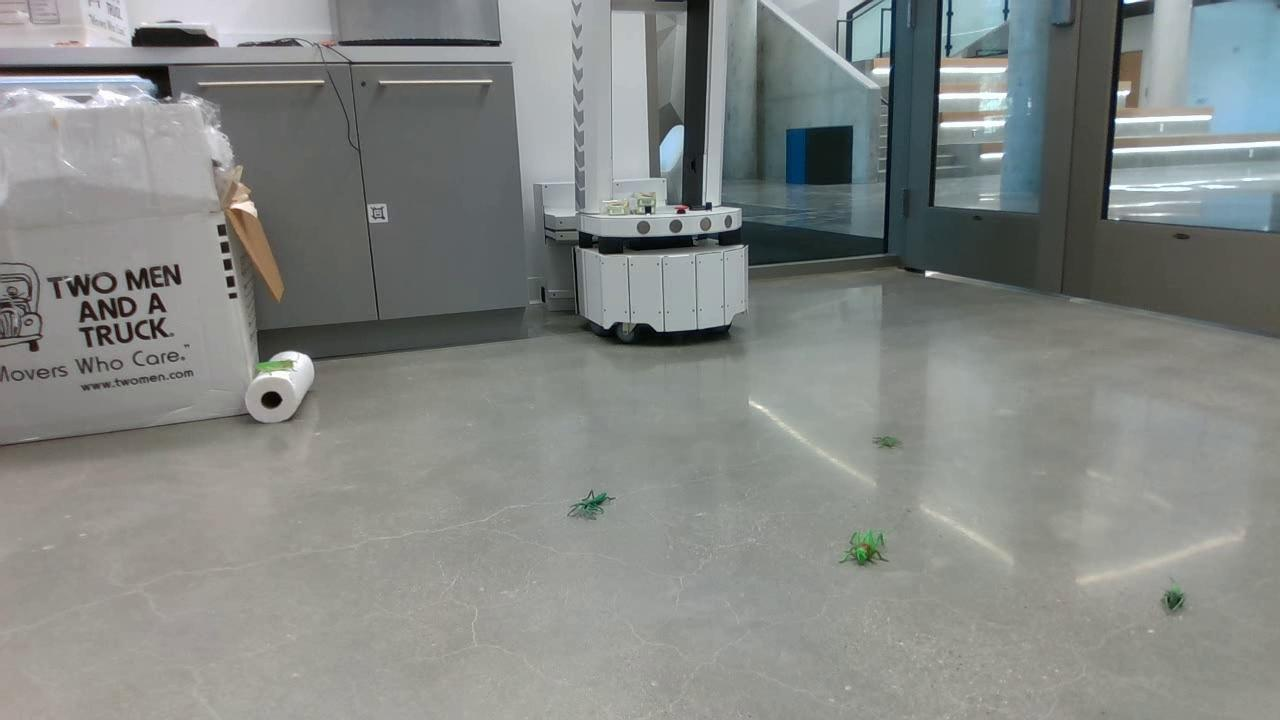grasshopper: (839, 529, 886, 567), (254, 362, 299, 374)
